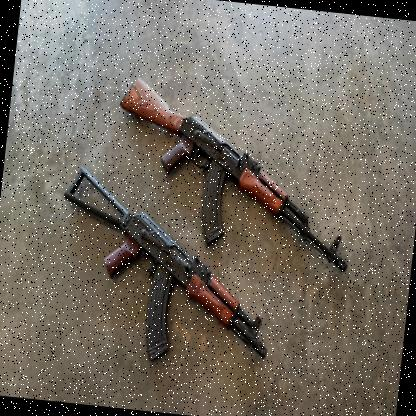rifle: (102, 67, 370, 290), (49, 161, 287, 379)
